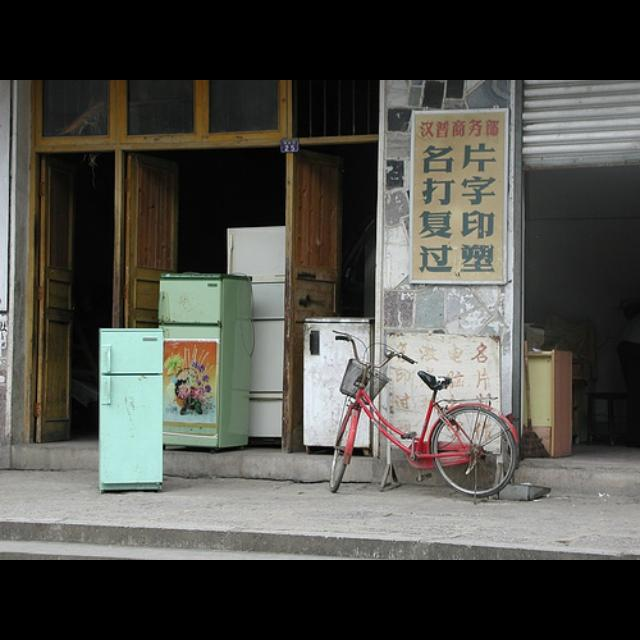Refrigerator: (159, 271, 253, 450), (227, 227, 287, 445), (97, 327, 165, 491), (303, 318, 373, 451)
